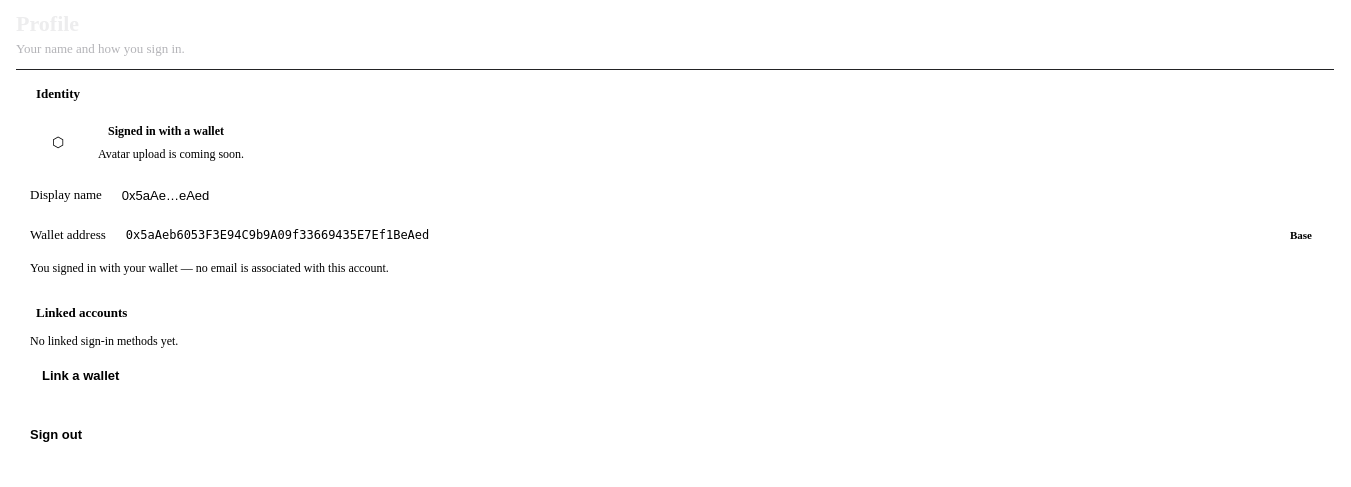
Test: <ProfilePage> merge-confirm dialog (PRD FR-U2) › shows an inline error when a plain link fails
What coordinates should you click on to do the following:
click the button with test id "profile-link-wallet"
I would click on:
 (81, 376)
Its box is [30,361,131,391].
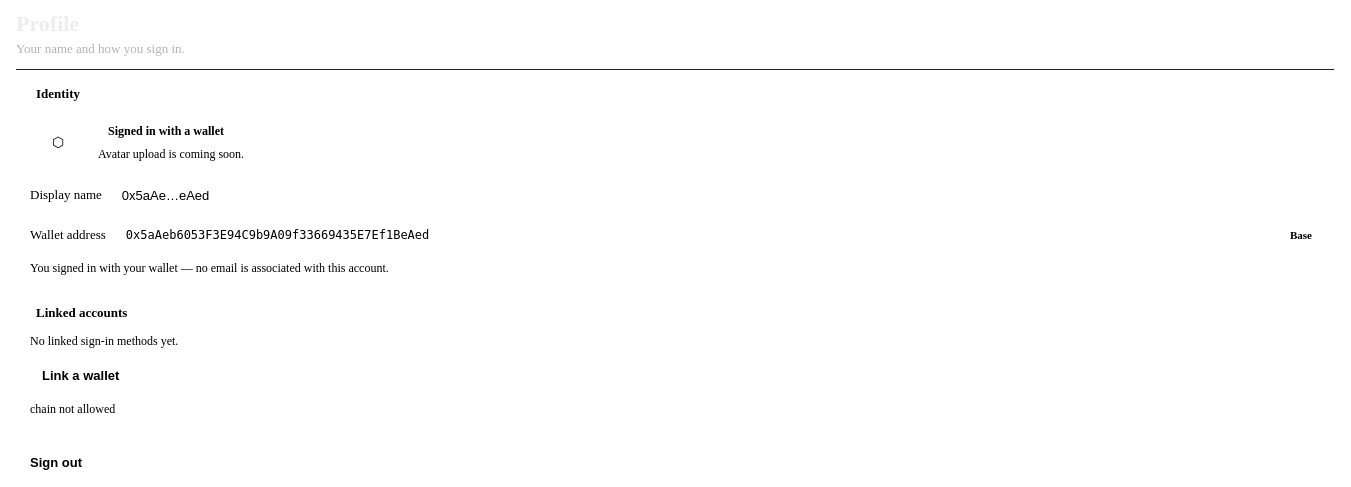
Check: the message with test id "profile-link-error" reads "chain not allowed", box [30,402,115,416]
